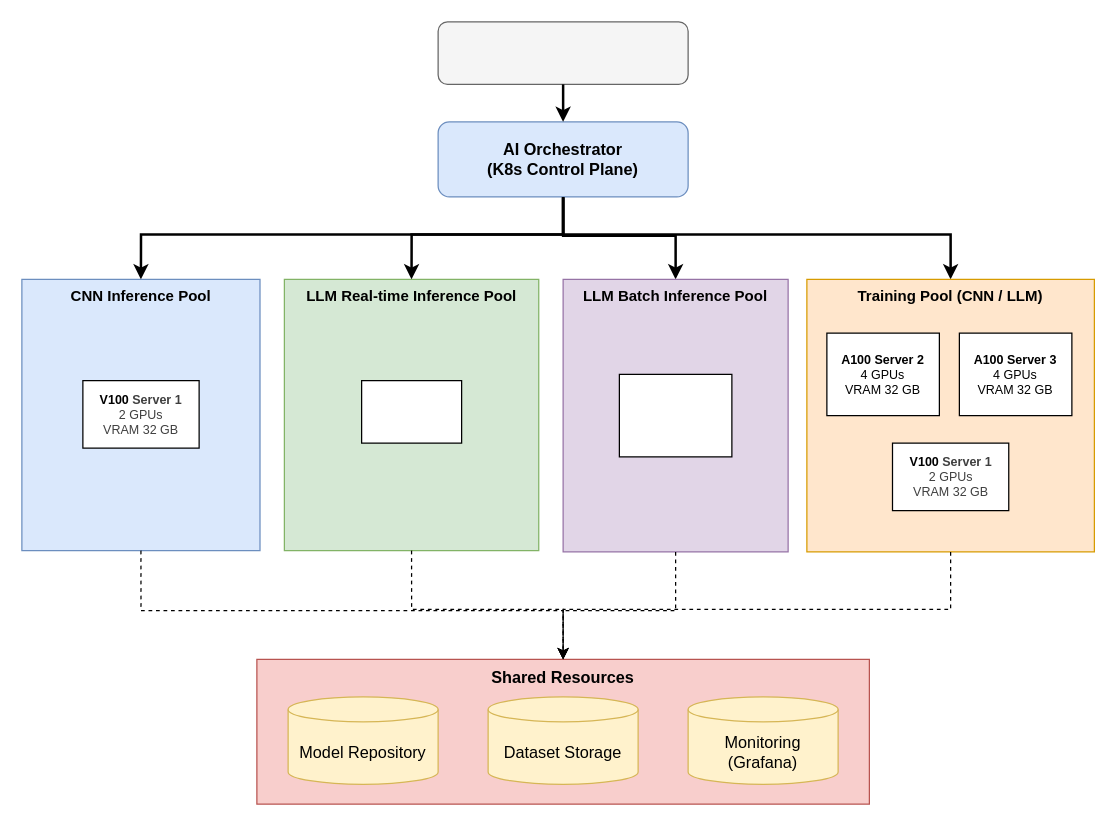
This 1116x826 diagram has some shape labels left out. Here are the shapes that lost their labels. From the top down, the centre of each, then its label:
At [562,52]: "Hospital Network".
At [411,411]: "L40s Server 1 1 GPU VRAM 48 GB".
At [675,415]: "A100 Server 1 4 GPUs VRAM 32 GB".
